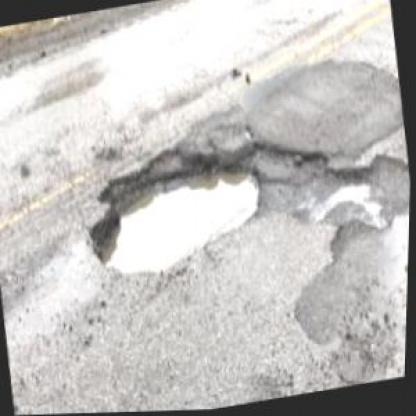pothole: (78, 124, 276, 286)
